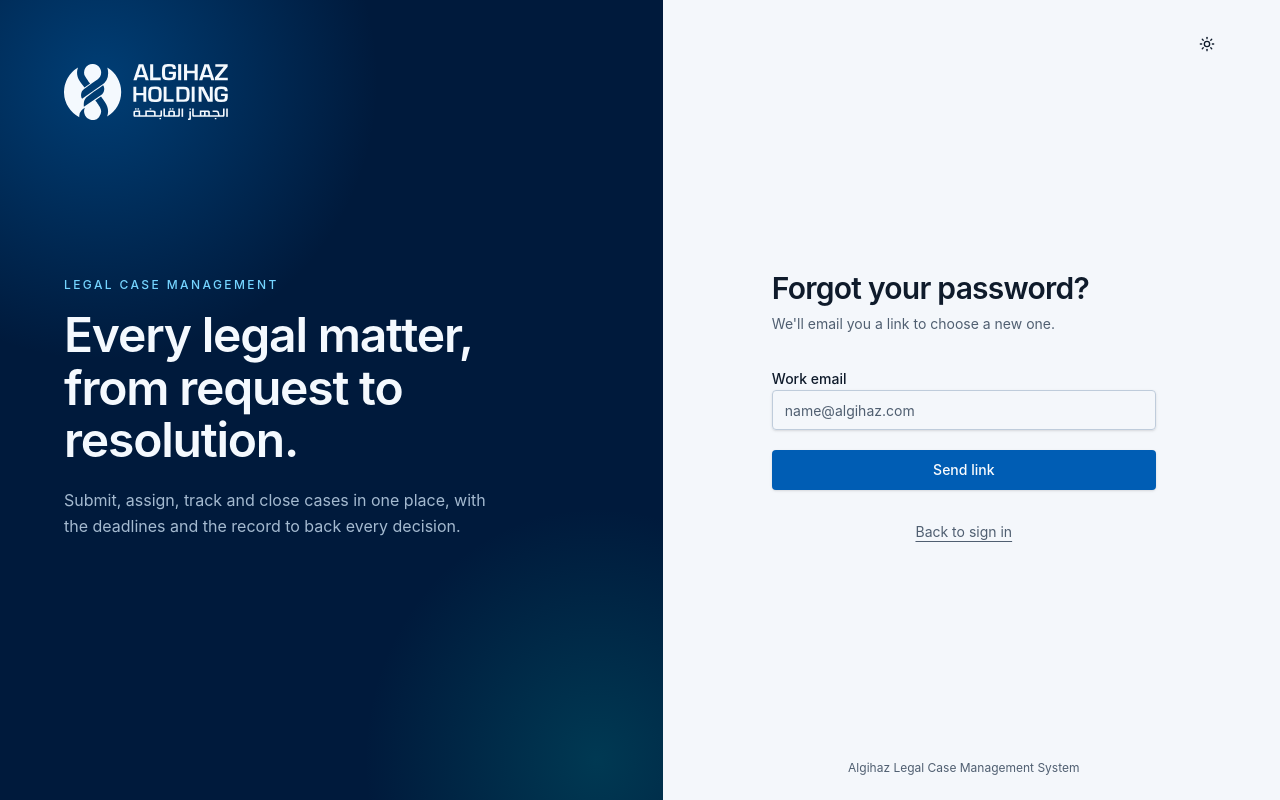
Test: ForgotPasswordPage › tells the user to wait when they have asked too many times
Expected: the heading "Forgot your password?" is shown, [772,270,1089,306]
Type "someone@example.com" into the field labelled "Work email" at [964, 410], box [772,390,1156,430]
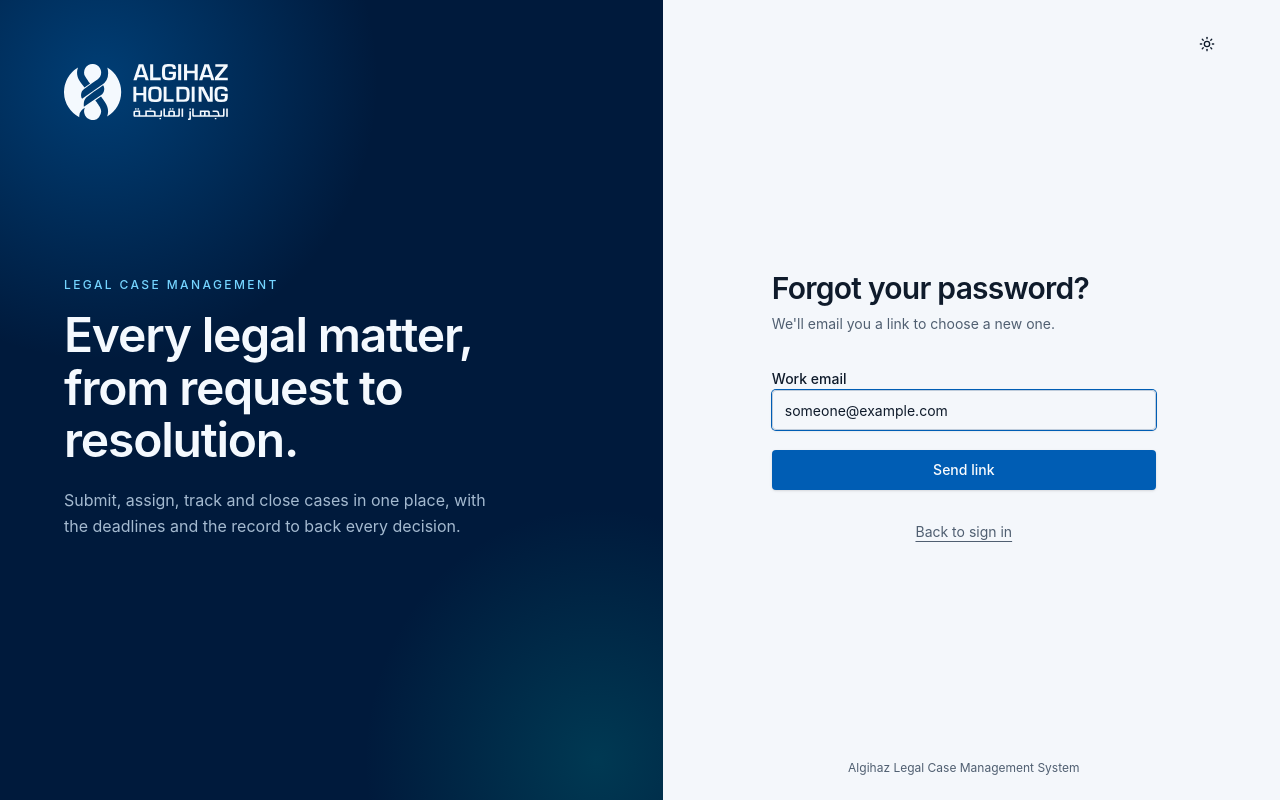
Click the button "Send link" at [964, 470], box [772,450,1156,490]
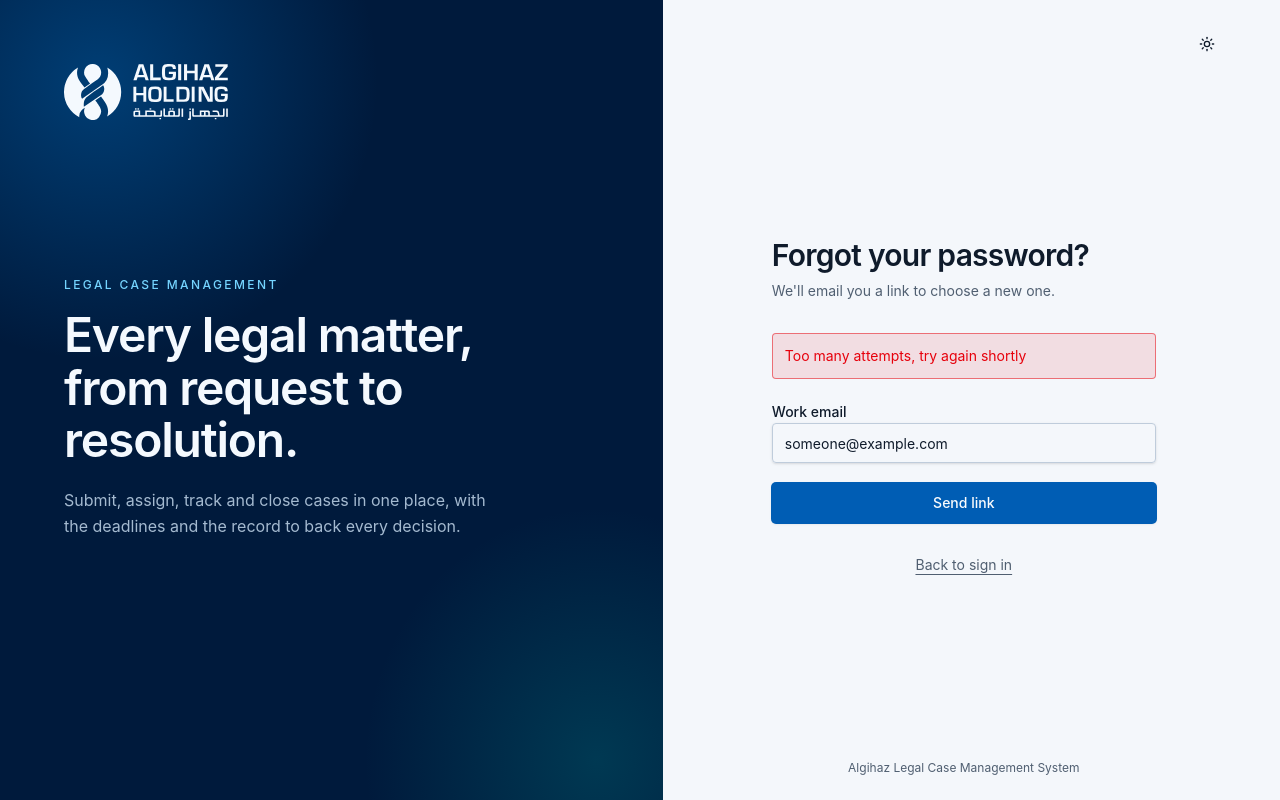
Now the message shows "Too many attempts", box [785,347,1026,364]
